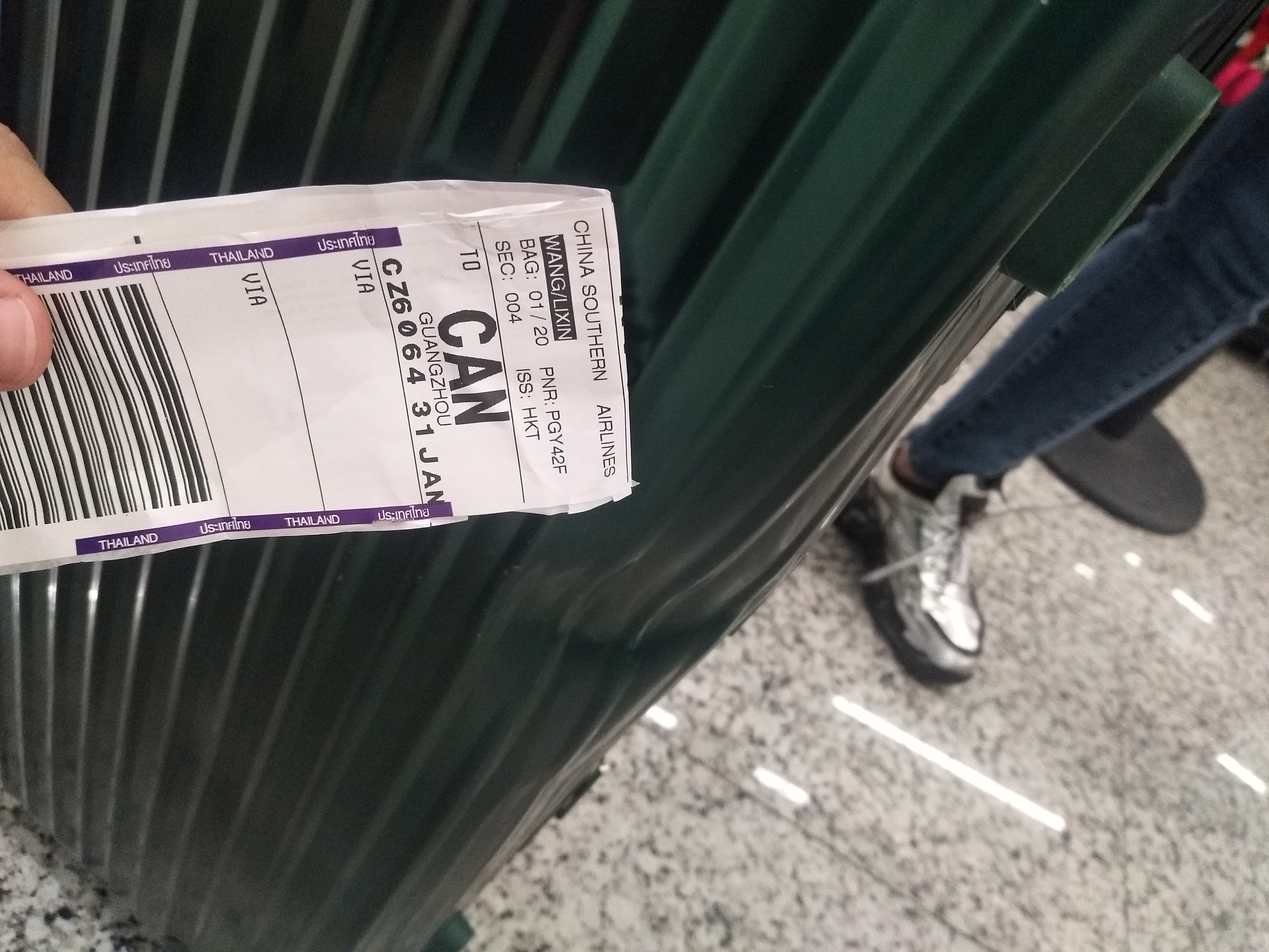rupture: (508, 547, 755, 662)
